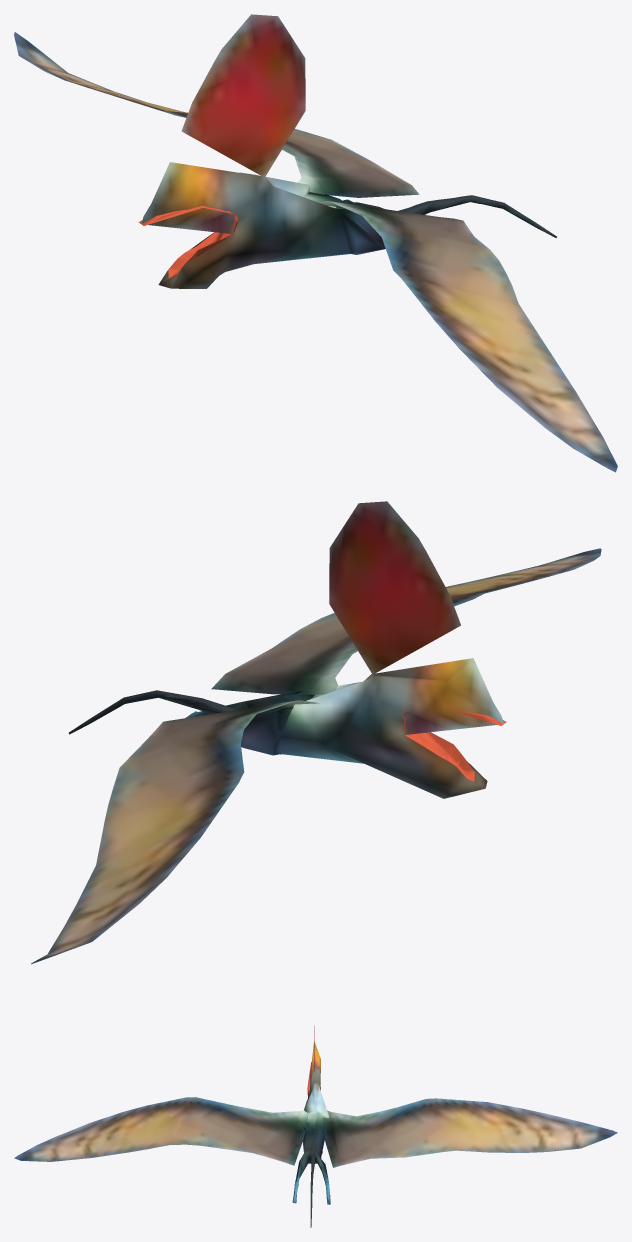
File: nature-tupandactylus.glb
The picture shows the model from 3 angles, top to bottom: view 1: azimuth 30°, elevation 25°; view 2: azimuth 150°, elevation 25°; view 3: azimuth 270°, elevation 25°; orthographic projection. The views are drawn at different scales.
Visible parts, largest first — view 1: Animal; view 2: Animal; view 3: Animal.
Boxes of the visible parts, x1,y1,x2,y2 form: Animal: (14, 14, 617, 472); Animal: (31, 501, 601, 964); Animal: (14, 1026, 617, 1227).
Bounding box in the file's own units: 1.33 × 0.9091 × 3.17.
2 materials, 1 textured.
